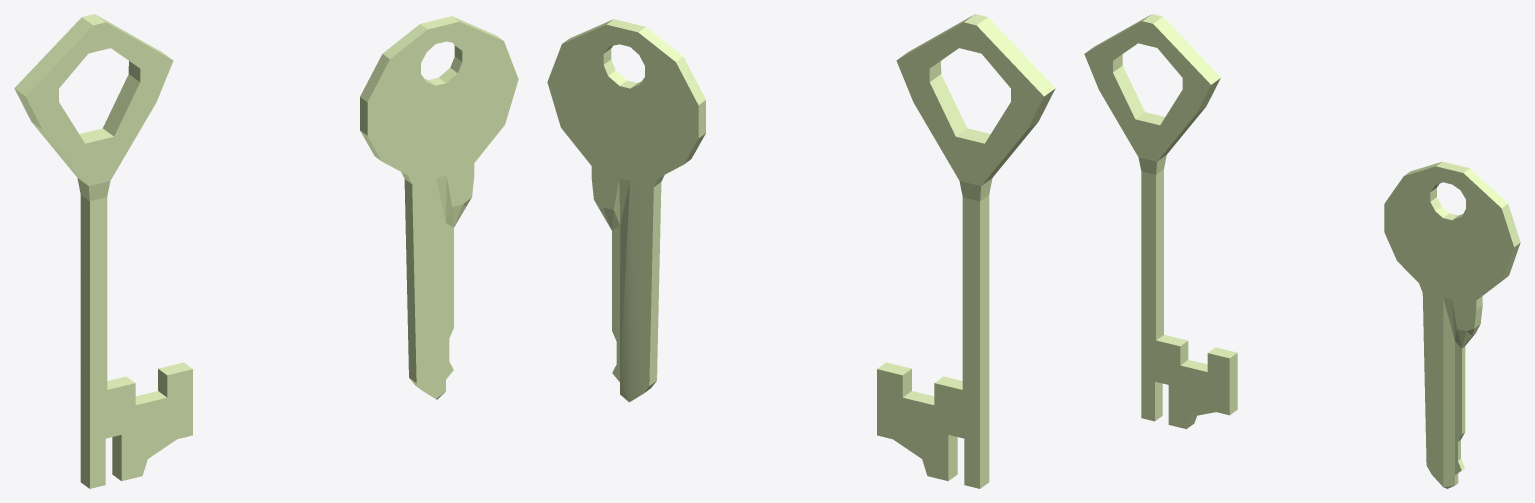
Rendered from Key.fbx.
3 views of the same model, side by side, from view 1: azimuth 30°, elevation 25°; view 2: azimuth 150°, elevation 25°; view 3: azimuth 330°, elevation 25° (orthographic). The views are drawn at different scales.
Parts seen in each view (by area): view 1: Key_1, Key_2; view 2: Key_1, Key_2; view 3: Key_1, Key_2.
Part boxes in pixels (x1,y1,x2,y2): Key_1: (360, 16, 518, 399); Key_2: (14, 14, 192, 488); Key_1: (547, 19, 705, 402); Key_2: (877, 14, 1055, 488); Key_1: (1384, 161, 1520, 488); Key_2: (1084, 14, 1237, 428).
Bounding box in the file's own units: 0.1234 × 0.1101 × 0.00495.
